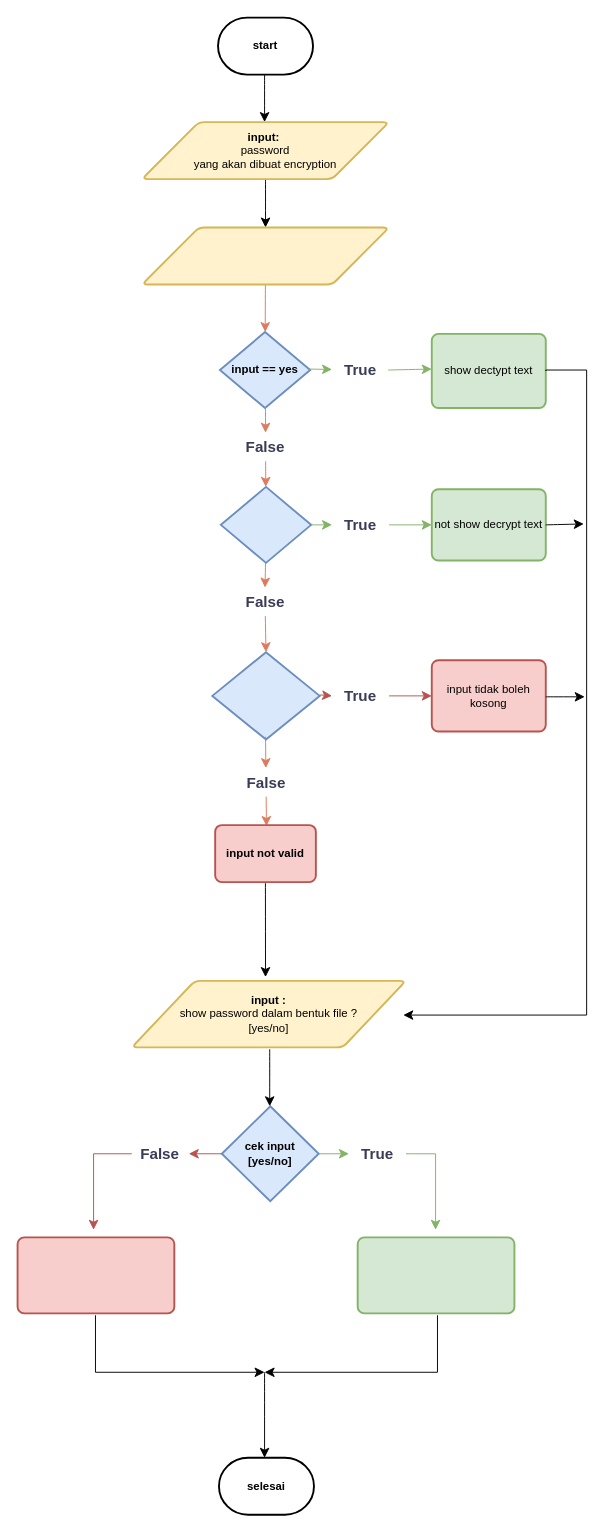
Some shapes in this 613 by 1531 pixel diagram are drawn without their labels. Here are the shapes that lost their labels. From the top down, the centre of each, then its label:
At pixel 265 255: "input: show password decrypt [yes/No]".
At pixel 265 524: "input == no".
At pixel 265 695: "input == kosong".
At pixel 95 1275: "encrypt yang ditunjukkan di layar".
At pixel 435 1275: "encript dalam bentuk file".
